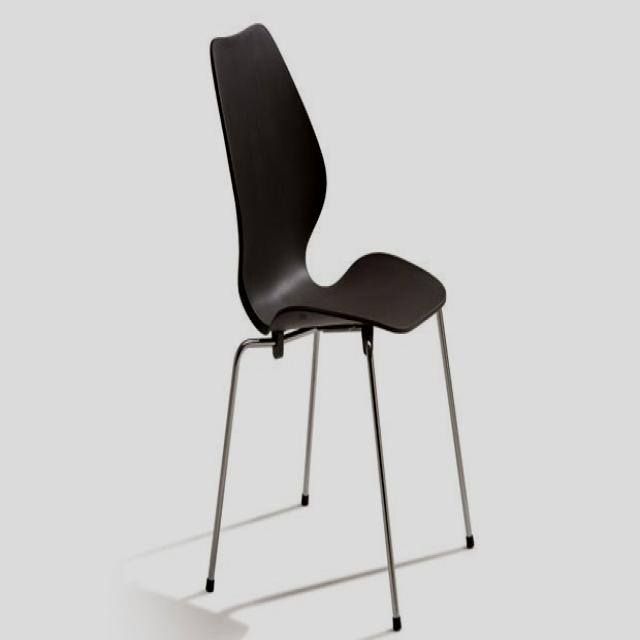Chair: (200, 19, 477, 635)
